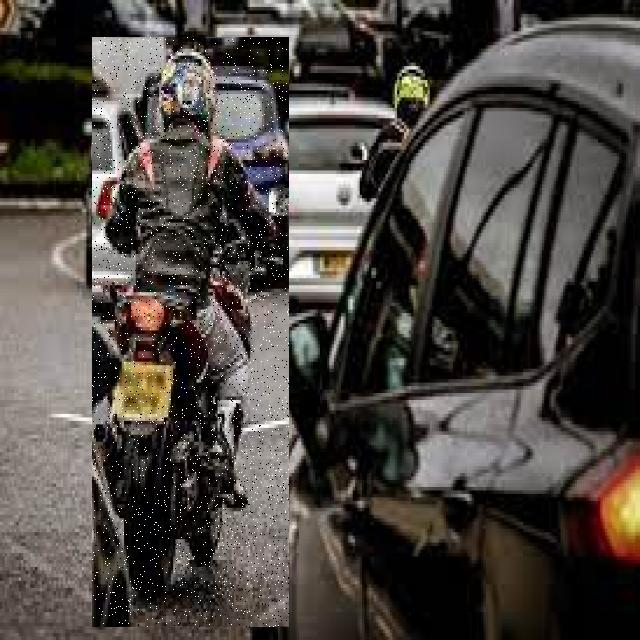With Helmet: (92, 37, 289, 627)
